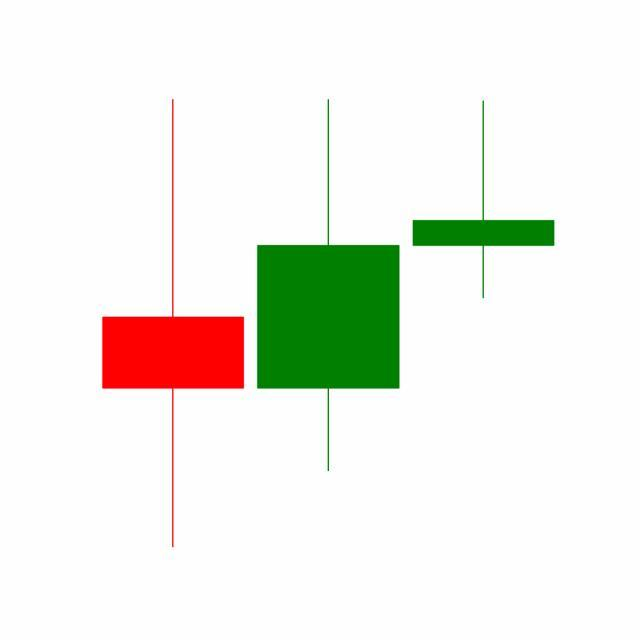Spinning Top: (406, 98, 562, 301)
